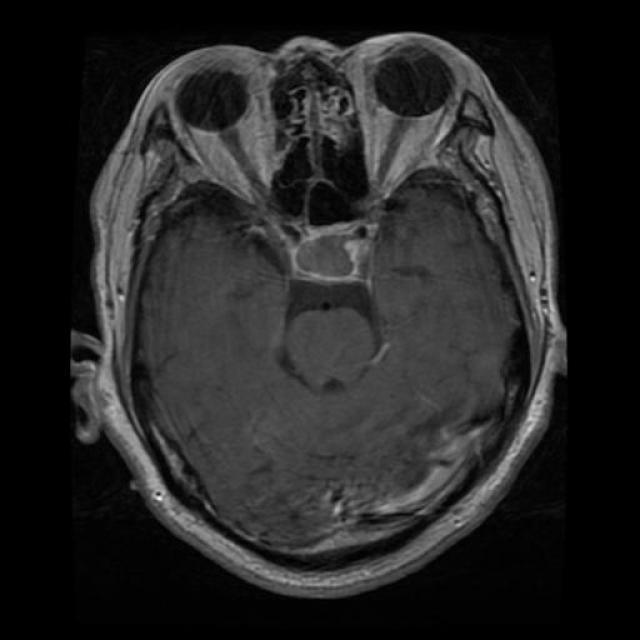pituitary: (268, 226, 403, 304)
